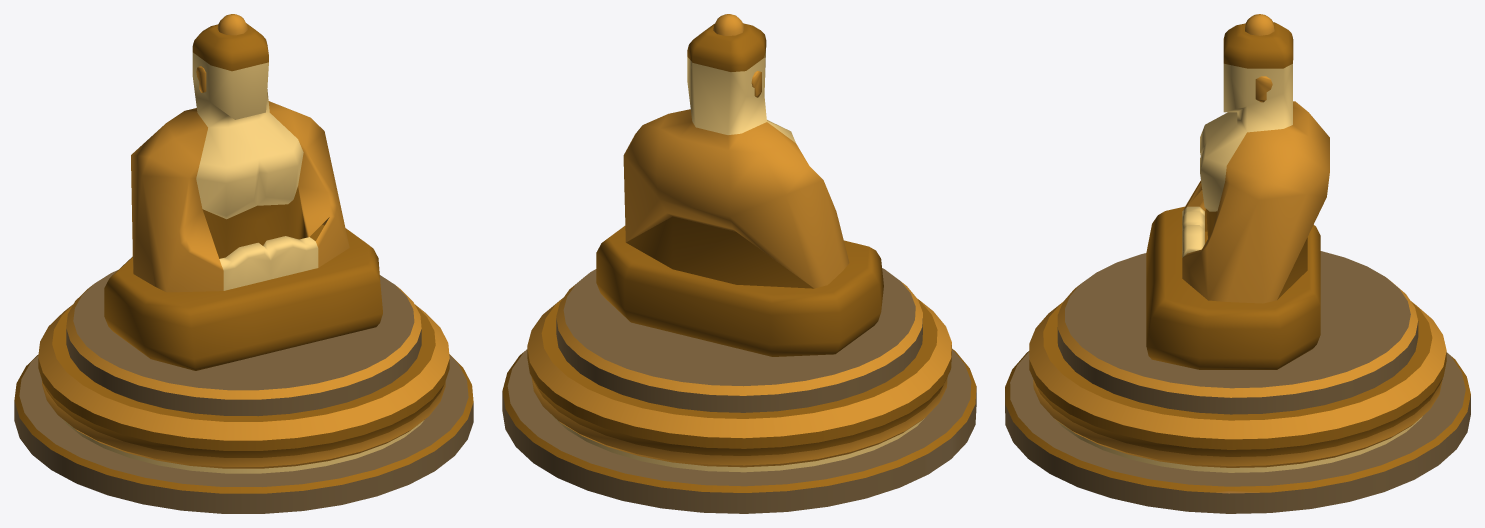
File: buda.FBX
3 views of the same model, side by side, from view 1: azimuth 30°, elevation 25°; view 2: azimuth 150°, elevation 25°; view 3: azimuth 270°, elevation 25° (orthographic). The views are drawn at different scales.
Visible parts, largest first — view 1: S_Landmarks:S_kamakura_buddha; view 2: S_Landmarks:S_kamakura_buddha; view 3: S_Landmarks:S_kamakura_buddha.
Part boxes in pixels (left/top/right/bottom): S_Landmarks:S_kamakura_buddha: left=14, top=14, right=473, bottom=513; S_Landmarks:S_kamakura_buddha: left=502, top=14, right=976, bottom=513; S_Landmarks:S_kamakura_buddha: left=1005, top=14, right=1470, bottom=513.
Size of the model in its own units: 4.78 by 4.53 by 4.78.
Materials: 1 (1 with a texture image).
